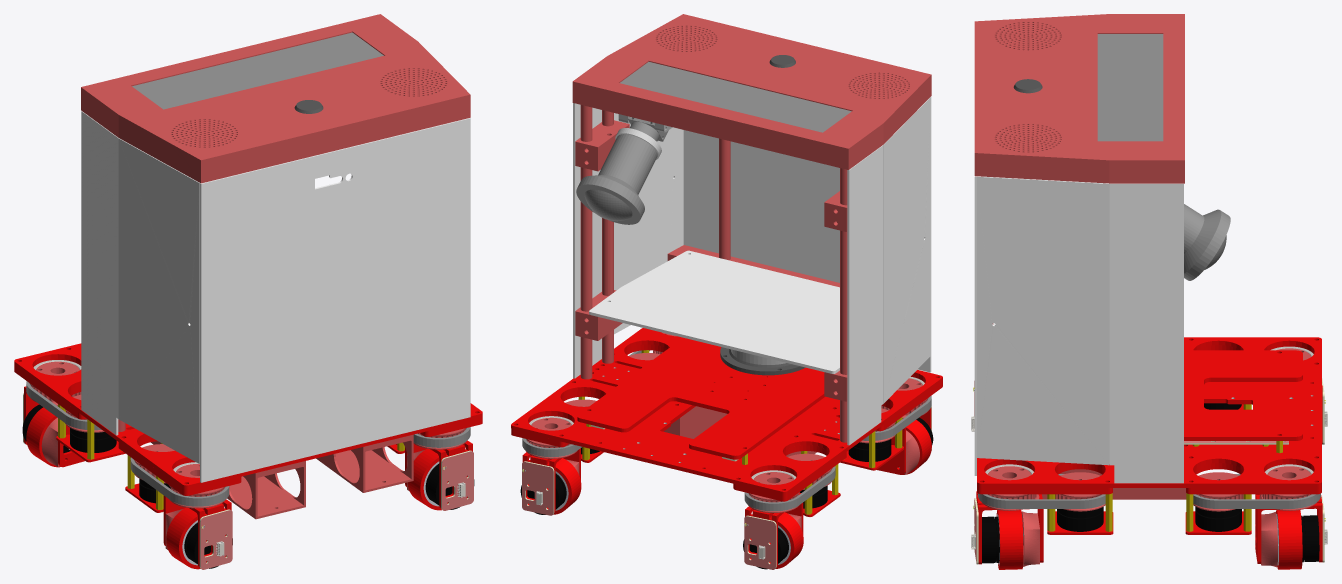
3 views of the same model, side by side, from view 1: azimuth 30°, elevation 25°; view 2: azimuth 150°, elevation 25°; view 3: azimuth 270°, elevation 25° (orthographic). The views are drawn at different scales.
Parts seen in each view (by area): view 1: Body_1.092, Body_1.139, Body_1.098, Body_1.121, Body_1.141, _3DGeom-154, Body_1.002, Body_1.001, _3DGeom-1910.001, _3DGeom-1910, Body_1.044, Body_1.037 (+13 smaller); view 2: Body_1.139, Body_1.122, Body_1.092, _3DGeom-154, _3DGeom-6915, Body_1.098, Body_1.121, Body_1.099, Body_1.141, Body_1.135, Body_1.110, Body_1.109 (+26 smaller); view 3: Body_1.099, Body_1.139, Body_1.110, _3DGeom-154, _3DGeom-6915, Body_1.141, Body_1.135, Body_1.016, Body_1.079, _3DGeom-252.003, _3DGeom-252, Body_1.023 (+17 smaller).
Part boxes in pixels (x1,y1,x2,y2): Body_1.092: [200, 118, 470, 482]; Body_1.139: [81, 14, 470, 183]; Body_1.098: [118, 138, 199, 463]; Body_1.121: [81, 111, 118, 435]; Body_1.141: [132, 32, 383, 109]; _3DGeom-154: [14, 343, 482, 489]; Body_1.002: [316, 434, 413, 492]; Body_1.001: [151, 441, 305, 519]; _3DGeom-1910.001: [200, 510, 232, 569]; _3DGeom-1910: [442, 451, 473, 510]; Body_1.044: [130, 457, 229, 506]; Body_1.037: [166, 507, 205, 569]; Body_1.139: [572, 14, 931, 169]; Body_1.122: [589, 250, 839, 373]; Body_1.092: [683, 96, 931, 372]; _3DGeom-154: [511, 328, 942, 495]; _3DGeom-6915: [577, 337, 824, 459]; Body_1.098: [883, 97, 930, 403]; Body_1.121: [847, 145, 883, 445]; Body_1.099: [614, 113, 683, 334]; Body_1.141: [620, 62, 851, 132]; Body_1.135: [576, 134, 657, 224]; Body_1.110: [573, 103, 601, 378]; Body_1.109: [580, 167, 592, 311]; Body_1.099: [977, 176, 1109, 465]; Body_1.139: [974, 14, 1184, 183]; Body_1.110: [1109, 183, 1183, 483]; _3DGeom-154: [977, 337, 1321, 487]; _3DGeom-6915: [1184, 350, 1302, 440]; Body_1.141: [1097, 34, 1163, 141]; Body_1.135: [1184, 204, 1230, 280]; Body_1.016: [996, 510, 1023, 569]; Body_1.079: [1276, 509, 1302, 569]; _3DGeom-252.003: [1186, 463, 1321, 494]; _3DGeom-252: [977, 463, 1112, 494]; Body_1.023: [978, 474, 1105, 508].
Bounding box in the file's own units: 0.298 × 0.4019 × 0.3067.
